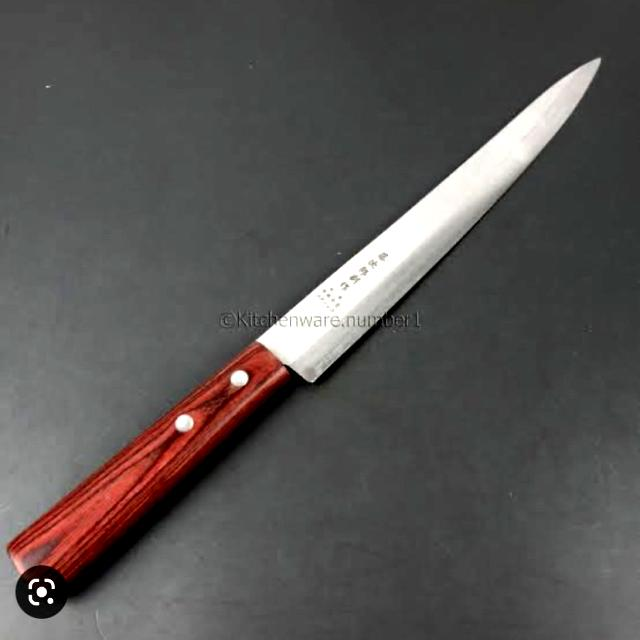knife: (3, 25, 634, 632)
